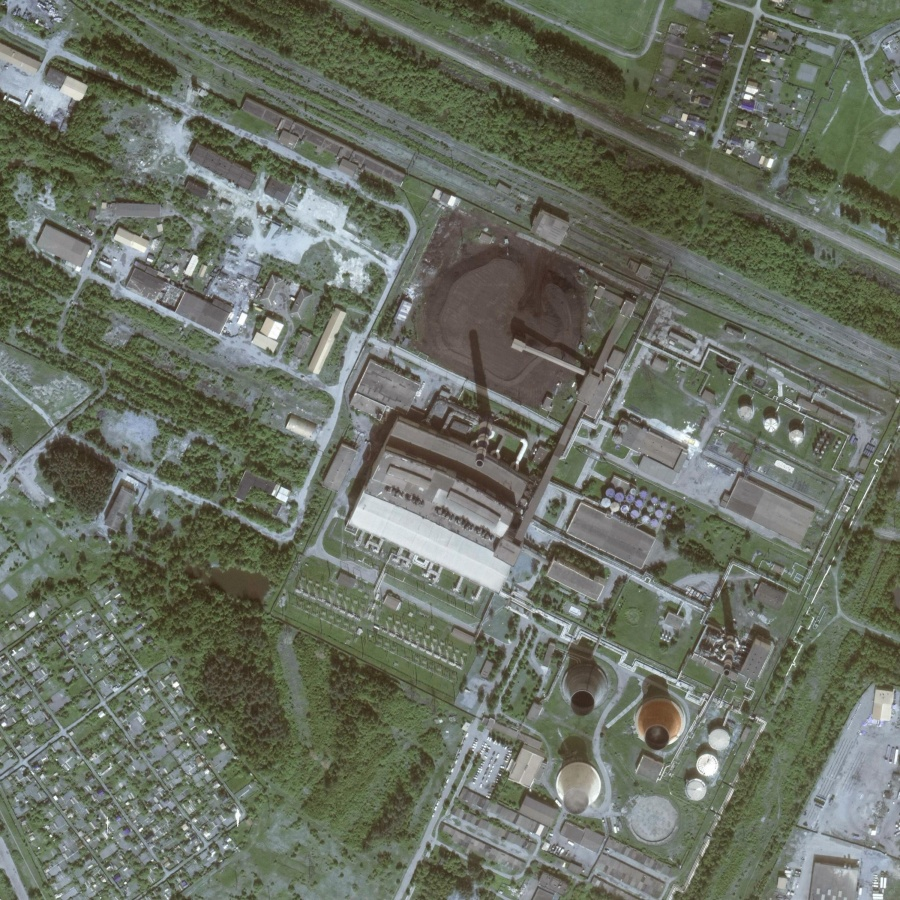PowerPlant: (341, 227, 806, 829)
